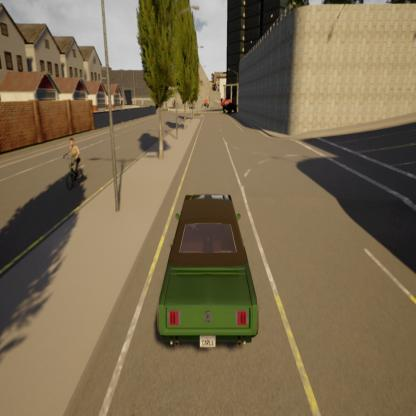Cars: (143, 188, 267, 362), (219, 96, 240, 113)
